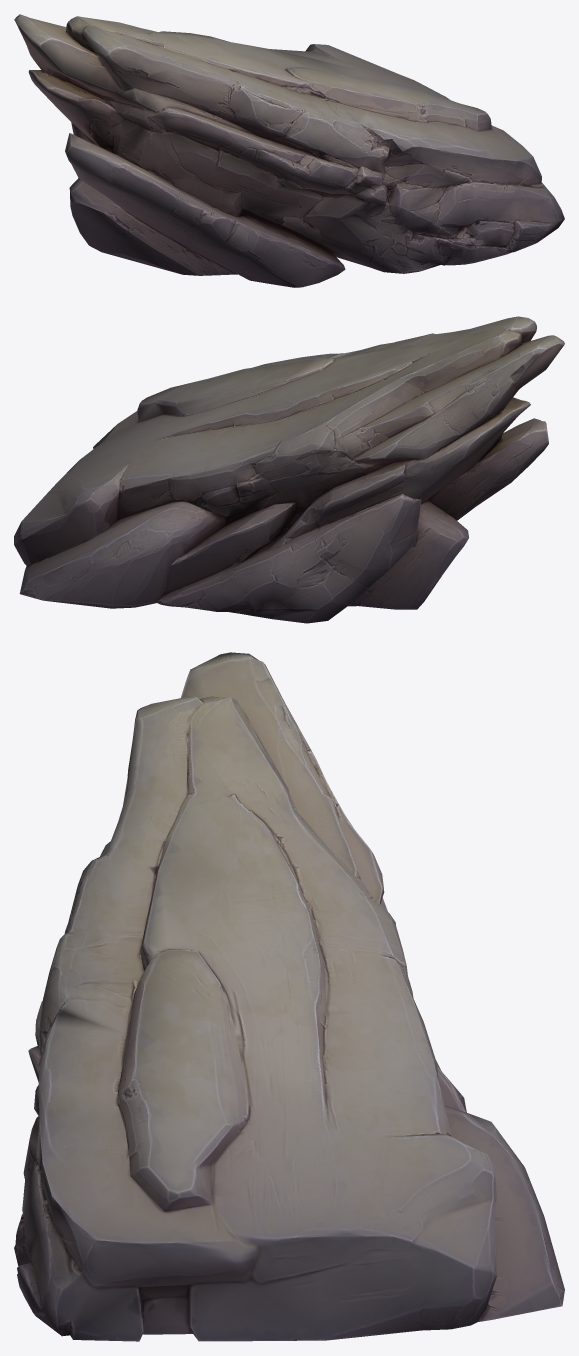
The model's file is prop_SlantedRock.fbx.
3 renders of one model, top to bottom at view 1: azimuth 30°, elevation 25°; view 2: azimuth 150°, elevation 25°; view 3: azimuth 270°, elevation 25°, orthographic. The views are drawn at different scales.
Parts seen in each view (by area): view 1: prop_SlantedRock; view 2: prop_SlantedRock; view 3: prop_SlantedRock.
Boxes of the visible parts, box(x1,y1,x2,y2) form: prop_SlantedRock: box(14, 14, 564, 287); prop_SlantedRock: box(14, 316, 564, 623); prop_SlantedRock: box(14, 652, 564, 1341).
Bounding box in the file's own units: 4201 × 2275 × 3057.
